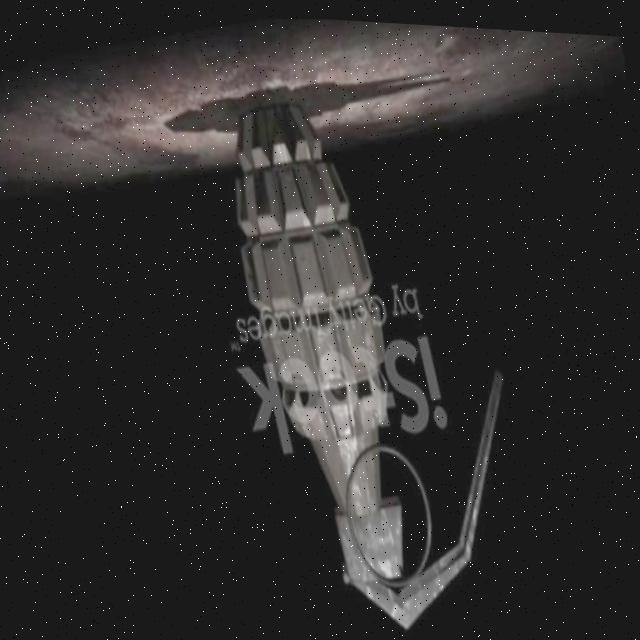grenade: (203, 69, 549, 640)
